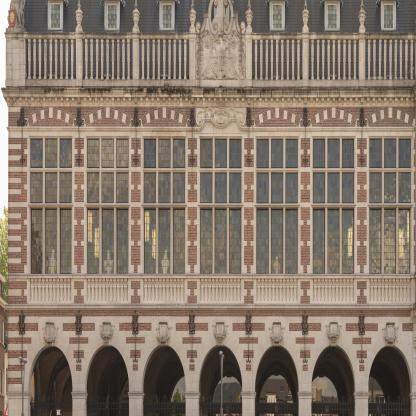Building Outline: (1, 0, 416, 416)
Cornice: (366, 107, 414, 127), (27, 107, 75, 127), (140, 107, 188, 127), (253, 107, 301, 127), (310, 107, 358, 127), (84, 107, 131, 127)
Deco: (196, 29, 246, 79), (196, 107, 246, 126), (324, 322, 343, 347), (98, 321, 116, 347), (211, 321, 229, 347), (155, 321, 173, 346), (268, 322, 286, 347), (381, 322, 399, 347), (42, 322, 59, 347), (189, 4, 197, 33), (358, 4, 366, 33), (75, 4, 83, 32), (132, 4, 140, 32), (245, 5, 253, 33), (301, 4, 309, 32), (360, 98, 365, 106), (133, 98, 138, 106), (190, 98, 195, 106), (303, 98, 308, 106), (77, 97, 81, 105), (247, 98, 251, 106)
Door: (141, 345, 186, 415), (368, 345, 412, 415), (28, 345, 72, 415), (85, 345, 129, 415), (198, 345, 242, 415), (255, 345, 299, 415), (311, 345, 355, 415)
Facade: (8, 96, 416, 415)
Floor: (8, 87, 416, 317)
Floor Slab: (8, 87, 416, 96), (8, 308, 416, 316)
Ground Floor: (8, 316, 416, 416)
Molding: (7, 97, 414, 107)
Top Floor: (8, 1, 416, 96)
Window: (29, 136, 72, 274), (86, 136, 129, 274), (143, 136, 186, 274), (256, 136, 299, 274), (312, 136, 355, 274), (369, 136, 411, 274), (200, 136, 242, 274), (384, 4, 394, 29), (51, 4, 61, 29), (107, 4, 117, 29), (162, 4, 172, 29), (273, 4, 283, 29), (327, 4, 337, 29)
